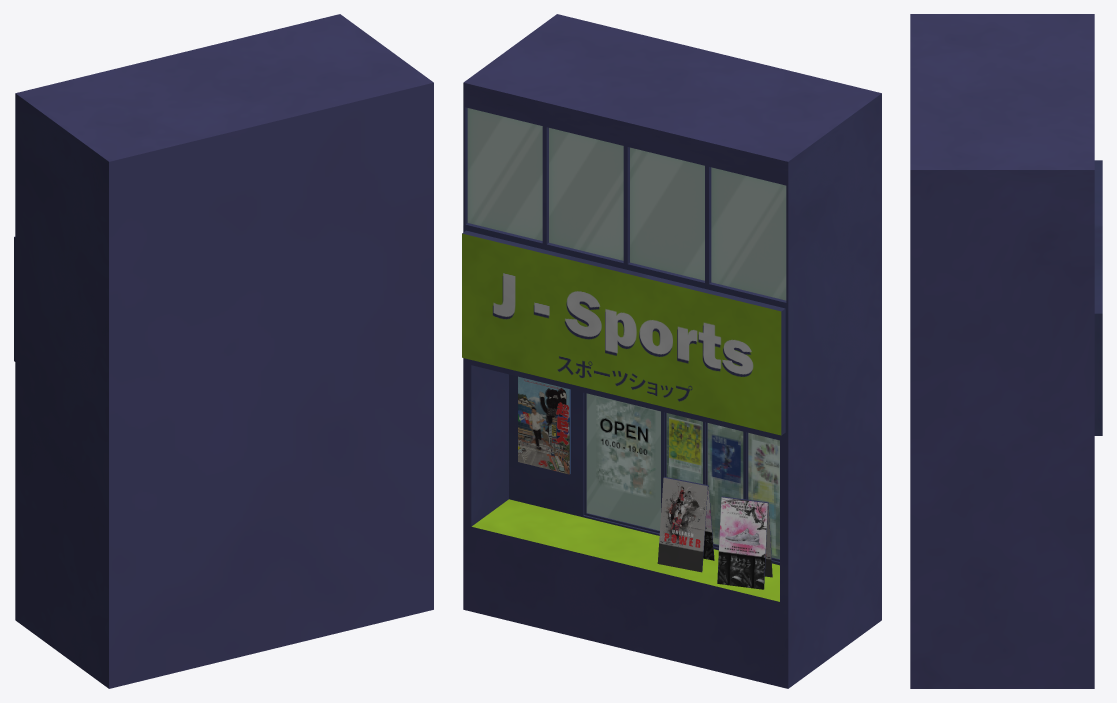
The model's file is shop06.dae.
The picture shows the model from 3 angles, left to right: view 1: azimuth 30°, elevation 25°; view 2: azimuth 150°, elevation 25°; view 3: azimuth 270°, elevation 25°; orthographic projection.
Visible parts, largest first — view 1: shop06; view 2: shop06; view 3: shop06.
Part boxes in pixels (x1,y1,x2,y2): shop06: (14, 14, 433, 688); shop06: (462, 14, 881, 688); shop06: (910, 14, 1102, 688).
Size of the model in its own units: 4 by 6.2 by 2.09.
